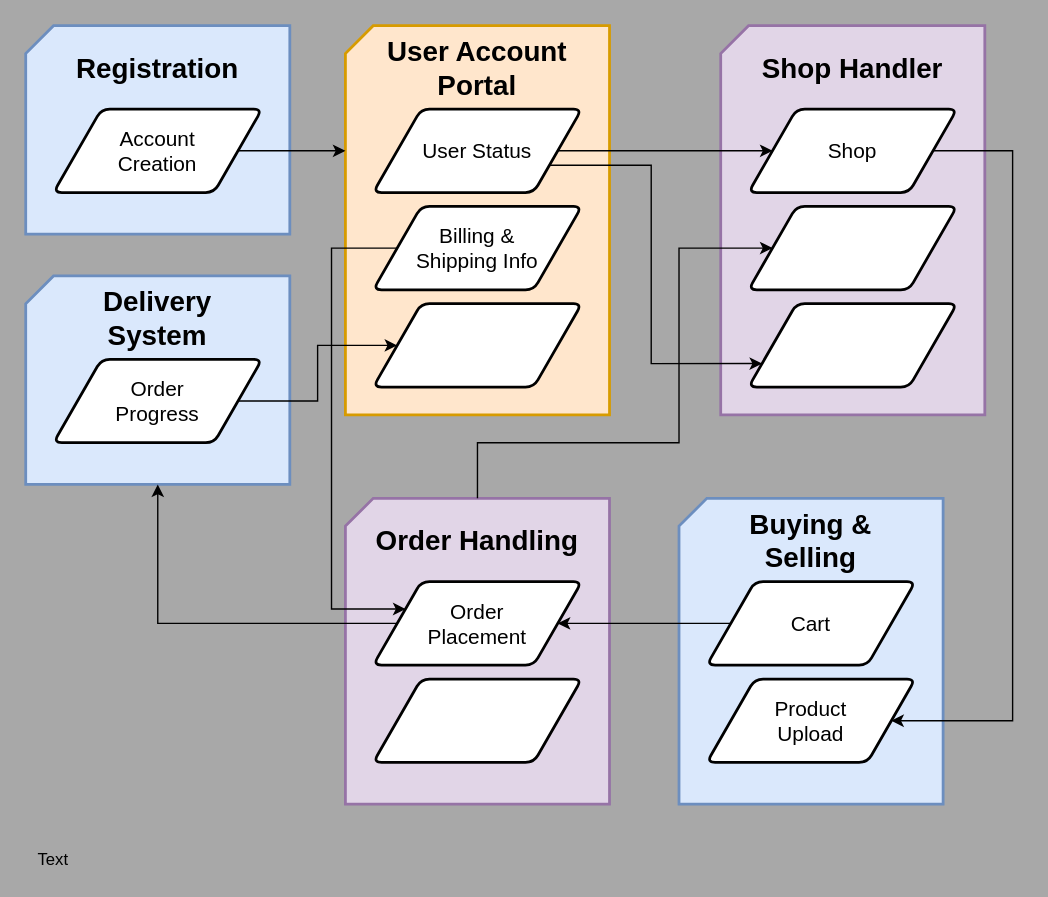
Image size: 1048x897. Some labels were removed from this diagram. Here are the shapes that lost their labels. From the top down, the box of each, then its label:
(746, 204, 958, 291): Notifications
(371, 302, 582, 388): Notification Handling
(746, 302, 958, 388): Ratings + Review
(371, 677, 582, 763): Order Cancellation
